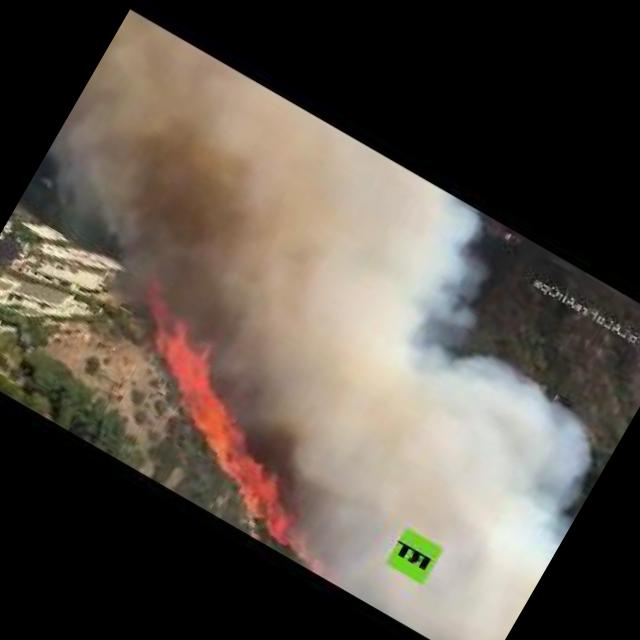fire: (91, 314, 372, 556)
